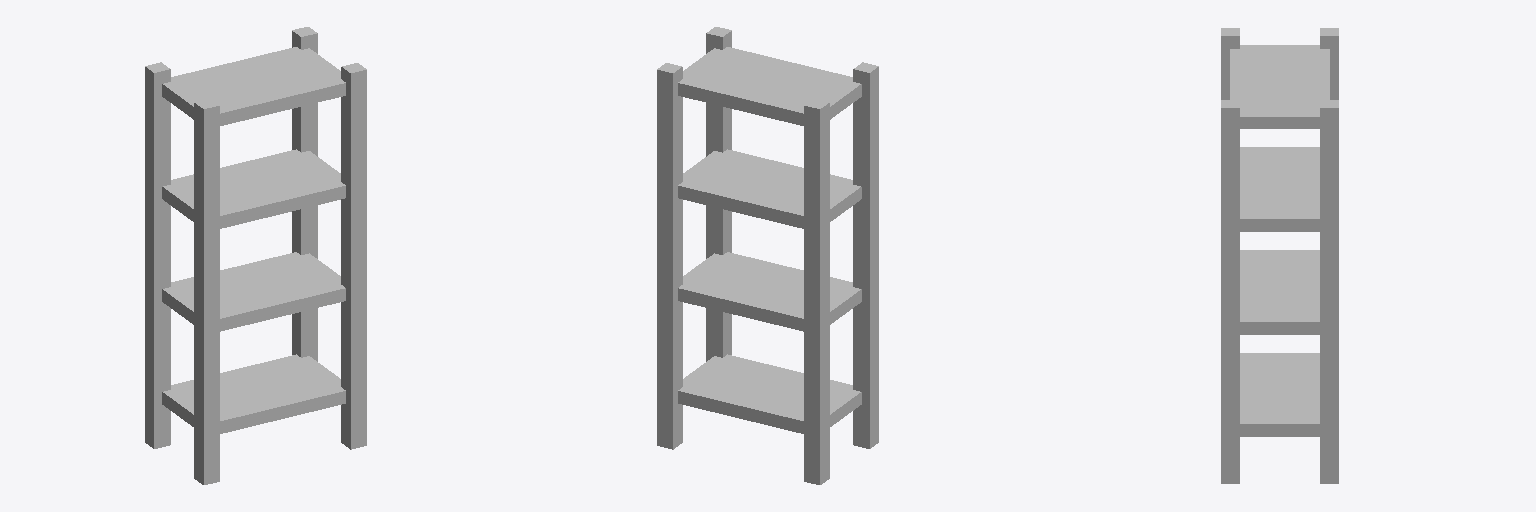
The model's file is plant shelf.obj.
The picture shows the model from 3 angles: view 1: azimuth 30°, elevation 25°; view 2: azimuth 150°, elevation 25°; view 3: azimuth 270°, elevation 25°; orthographic projection.
Parts seen in each view (by area): view 1: bookcaseOpen; view 2: bookcaseOpen; view 3: bookcaseOpen.
Part boxes in pixels (x1,y1,x2,y2): bookcaseOpen: (145, 27, 366, 484); bookcaseOpen: (657, 27, 878, 484); bookcaseOpen: (1221, 28, 1338, 483).
Bounding box in the file's own units: 0.4 × 0.88 × 0.25.